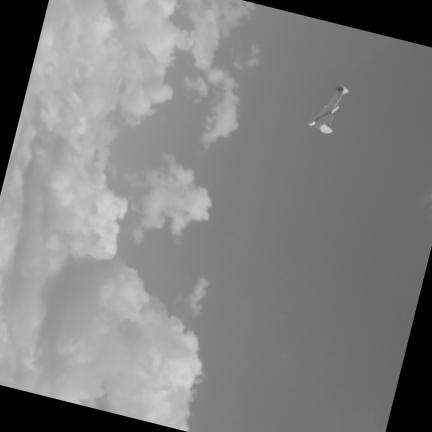Shahed: (306, 84, 347, 133)
